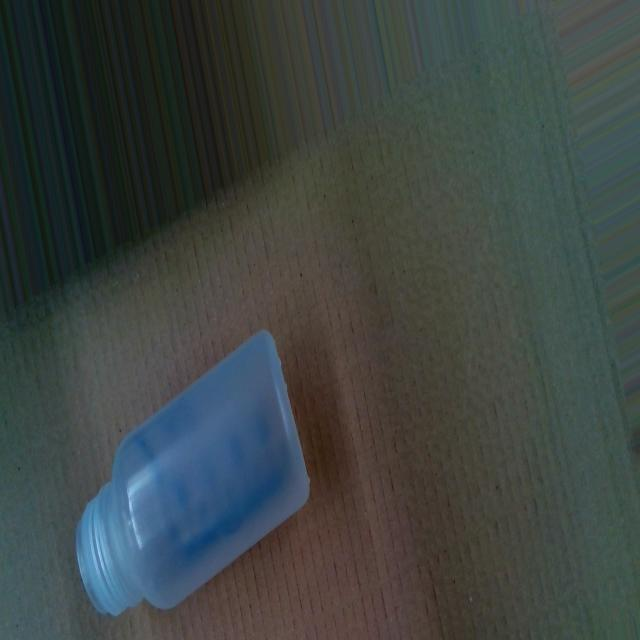bottle: (72, 324, 311, 620)
